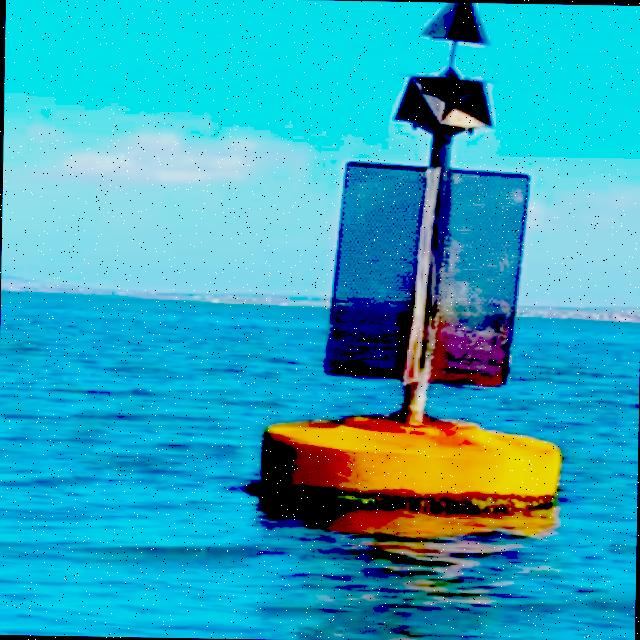marque: (258, 1, 566, 513)
